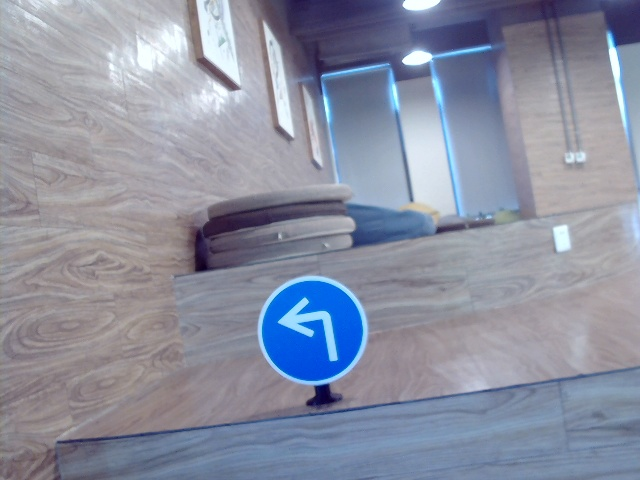turn_left: (278, 293, 338, 366)
